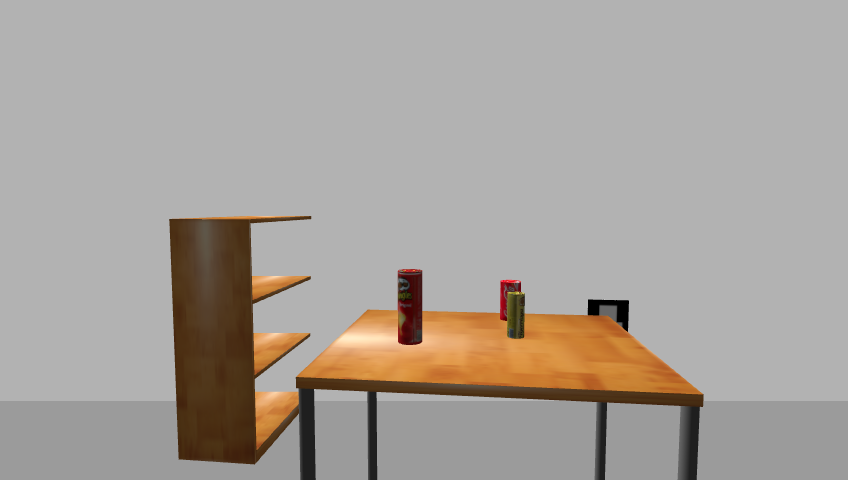aruco marker: (583, 298, 633, 335)
biscuits pack: (507, 293, 525, 340)
bookshelf: (165, 213, 318, 465)
coke can: (499, 279, 523, 322)
dinner table: (290, 308, 712, 479)
pringles can: (396, 269, 424, 347)
